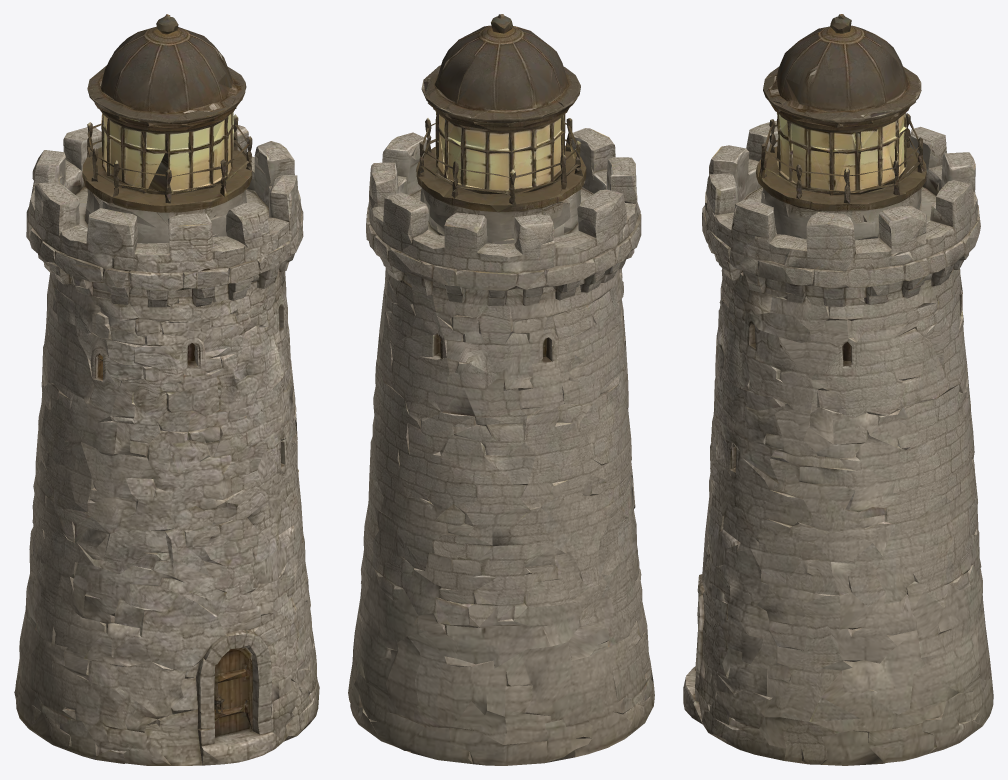
File: poi_lighthouse.glb
3 renders of one model, left to right at view 1: azimuth 30°, elevation 25°; view 2: azimuth 150°, elevation 25°; view 3: azimuth 270°, elevation 25°, orthographic.
Visible parts, largest first — view 1: poi_lighthouse; view 2: poi_lighthouse; view 3: poi_lighthouse.
Boxes of the visible parts, x1,y1,x2,y2 form: poi_lighthouse: [14, 14, 319, 765]; poi_lighthouse: [348, 14, 654, 765]; poi_lighthouse: [683, 14, 993, 765].
Bounding box in the file's own units: 7.24 × 18 × 7.36.
Materials: 1 (1 with a texture image).
